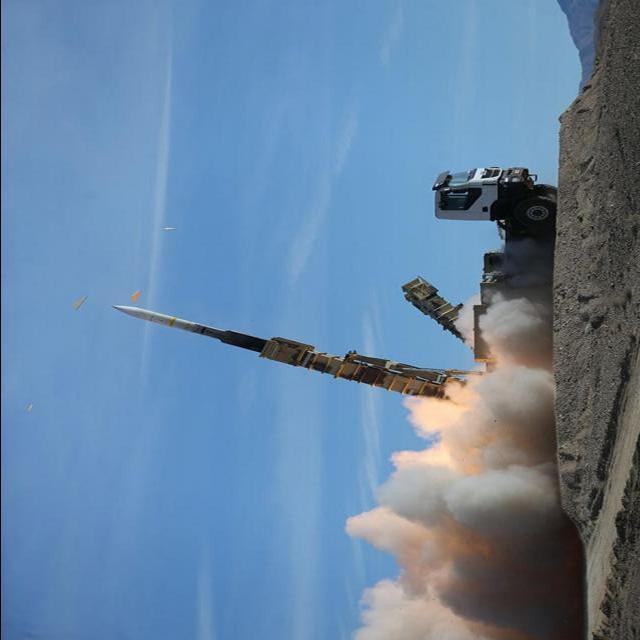Missile: (103, 300, 288, 354)
